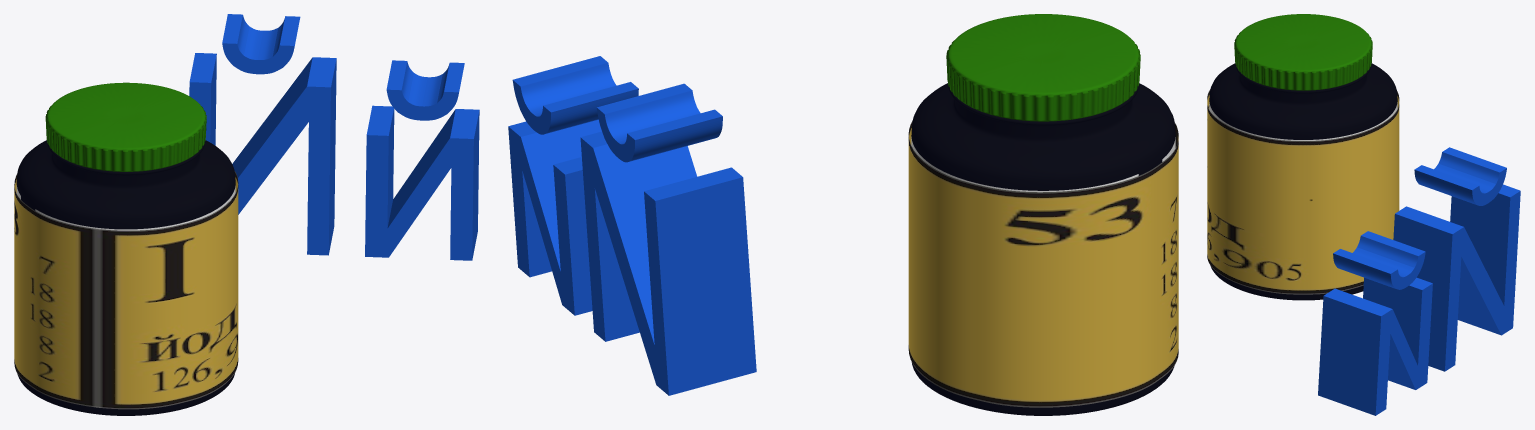
3 views of the same model, side by side, from view 1: azimuth 30°, elevation 25°; view 2: azimuth 150°, elevation 25°; view 3: azimuth 270°, elevation 25° (orthographic). The views are drawn at different scales.
Parts seen in each view (by area): view 1: Поверхность, Mesh_0.012, Cylinder, Circle; view 2: Поверхность, Mesh_0.012, Cylinder, Circle; view 3: Mesh_0.012, Поверхность, Cylinder, Circle.
Boxes of the visible parts, x1,y1,x2,y2 form: Поверхность: (14, 171, 238, 409); Mesh_0.012: (189, 14, 479, 260); Cylinder: (16, 140, 235, 415); Circle: (45, 82, 206, 171); Поверхность: (908, 121, 1178, 407); Mesh_0.012: (508, 56, 756, 395); Cylinder: (911, 83, 1175, 415); Circle: (946, 14, 1140, 121); Mesh_0.012: (1318, 147, 1520, 415); Поверхность: (1207, 89, 1399, 294); Cylinder: (1209, 63, 1397, 300); Circle: (1234, 14, 1372, 90).
Size of the model in its own units: 39.21 by 20.25 by 25.01.
Materials: 6 (1 with a texture image).
